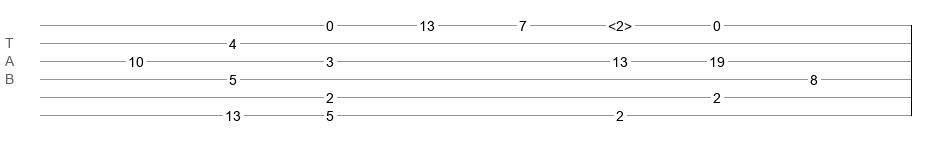0: (326, 18, 334, 28), (713, 18, 721, 28)
10: (128, 54, 144, 64)
13: (225, 108, 241, 118), (419, 18, 435, 28), (612, 54, 628, 64)
19: (709, 54, 725, 64)
2: (326, 90, 334, 100), (616, 108, 624, 118), (713, 90, 721, 100)
3: (326, 54, 334, 64)
4: (229, 36, 237, 46)
5: (229, 72, 237, 82), (326, 108, 334, 118)
7: (519, 18, 527, 28)
8: (810, 72, 818, 82)
harmonic: (608, 18, 632, 28)
